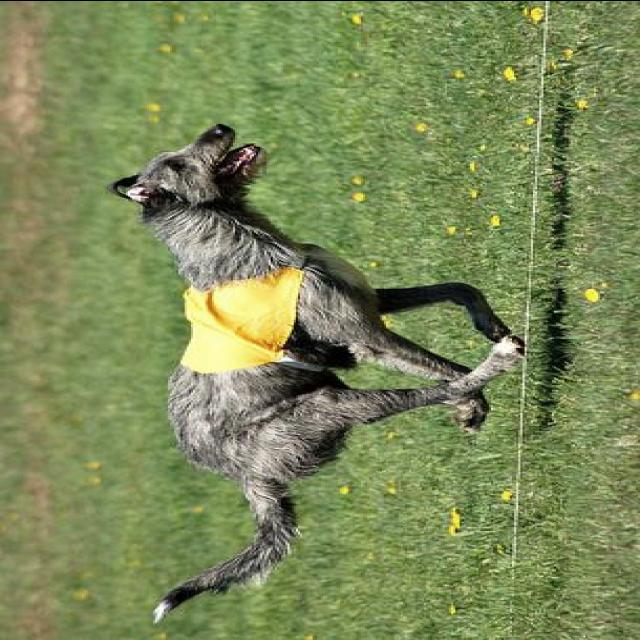irish_wolfhound: (100, 123, 524, 623)
